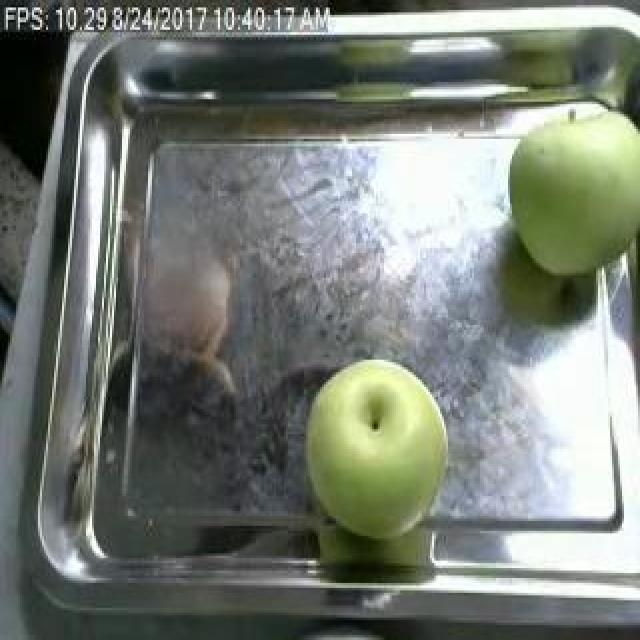Rotten Apple: (305, 352, 451, 538), (500, 103, 640, 284)
